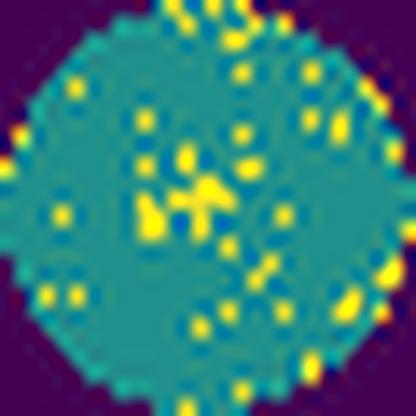Center: (135, 173, 239, 243)
